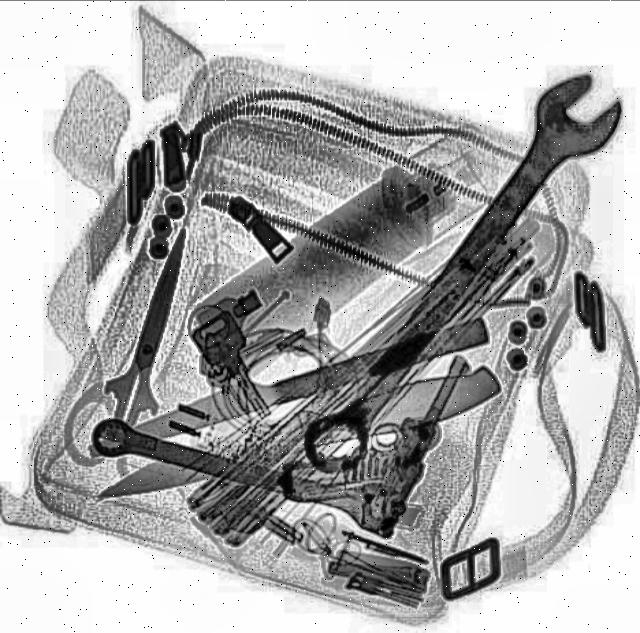Gun: (272, 312, 476, 538)
Knife: (91, 354, 507, 516), (80, 308, 490, 462), (92, 220, 208, 430)
Wrench: (278, 58, 634, 486), (85, 408, 409, 534)
